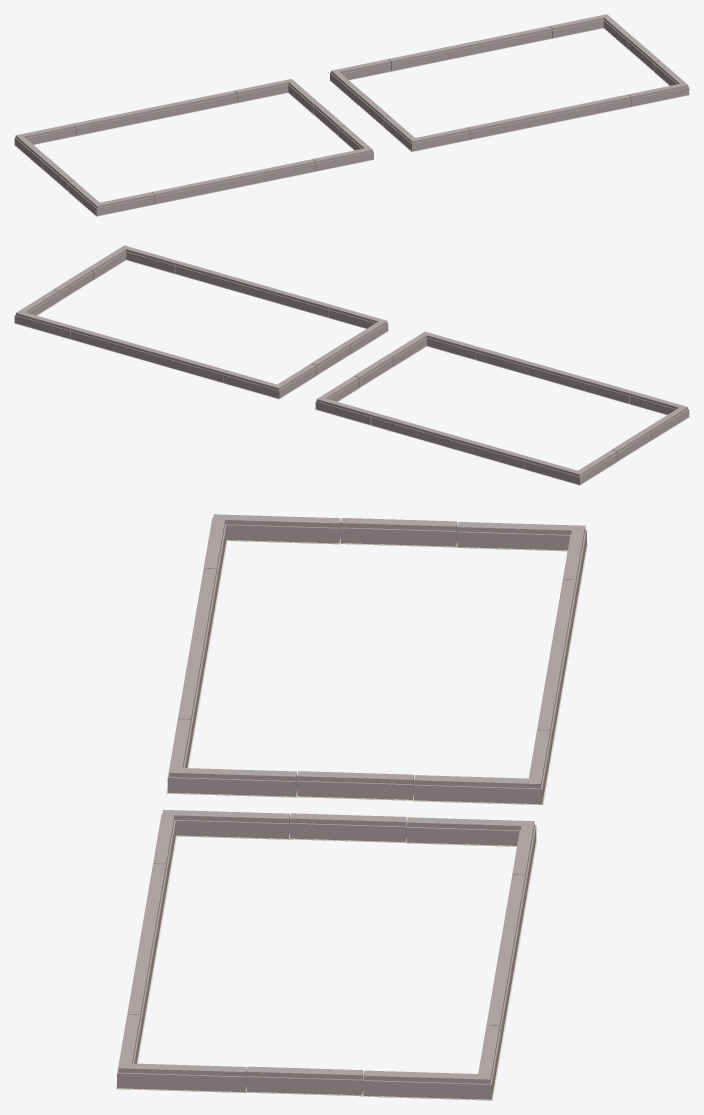
Rendered from Room4015Zone3.fbx.
3 renders of one model, top to bottom at view 1: azimuth 30°, elevation 25°; view 2: azimuth 150°, elevation 25°; view 3: azimuth 270°, elevation 25°, orthographic. The views are drawn at different scales.
Visible parts, largest first — view 1: Room4.015Zone3; view 2: Room4.015Zone3; view 3: Room4.015Zone3.
Part boxes in pixels (x1,y1,x2,y2): Room4.015Zone3: [14, 14, 689, 216]; Room4.015Zone3: [14, 245, 689, 485]; Room4.015Zone3: [116, 514, 587, 1100].
Size of the model in its own units: 6.26 by 0.104 by 2.2.
